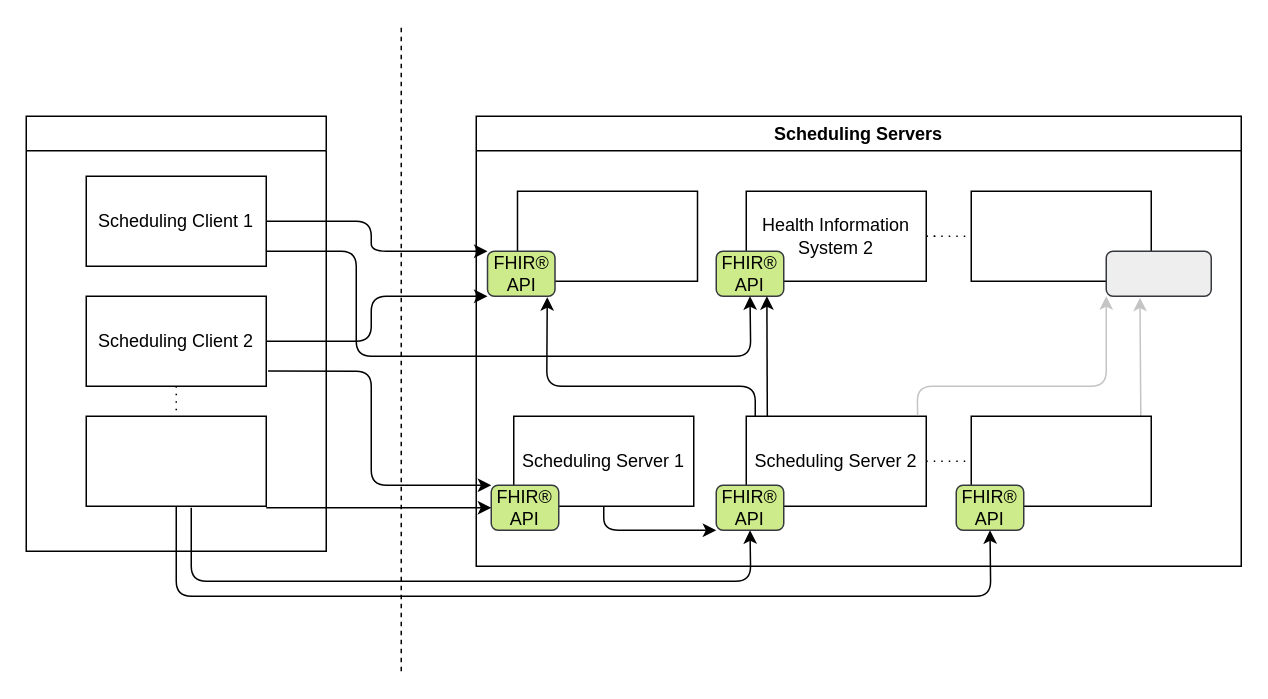
Image size: 1268x699. Some labels were removed from this diagram. Here are the shapes that lost their labels. From the top down, the box of each, then its label:
(516, 190, 698, 281): Health Information System 1
(970, 190, 1151, 281): Health Information System n
(1105, 250, 1211, 296): Other API
(25, 115, 326, 551): Clients
(85, 415, 266, 506): Scheduling Client n
(970, 415, 1151, 506): Scheduling Server n
